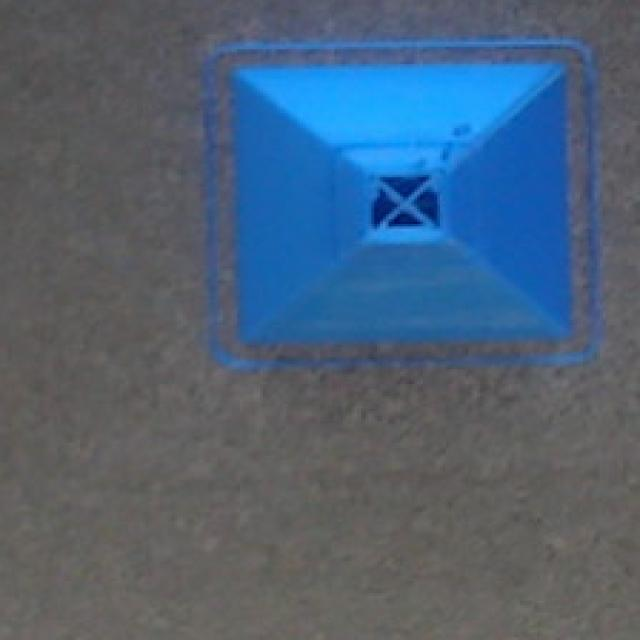mistake: (230, 61, 575, 342)
